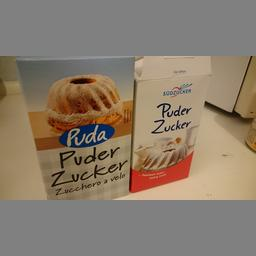sugar: (13, 56, 136, 198), (132, 61, 210, 192)
